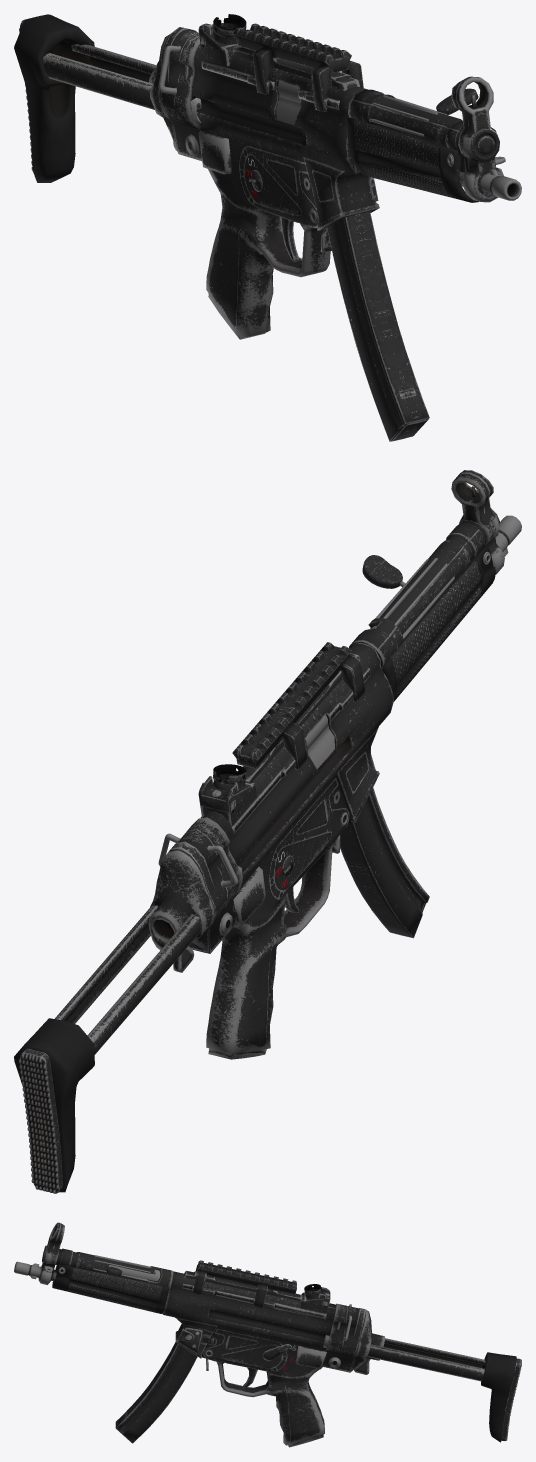
The picture shows the model from 3 angles, top to bottom: view 1: azimuth 30°, elevation 25°; view 2: azimuth 150°, elevation 25°; view 3: azimuth 270°, elevation 25°; orthographic projection. The views are drawn at different scales.
Visible parts, largest first — view 1: MP5_1_Low006, MP5_1_Low010, MP5_1_Low011; view 2: MP5_1_Low006, MP5_1_Low010, MP5_1_Low011, MP5_1_Low013; view 3: MP5_1_Low006, MP5_1_Low010, MP5_1_Low011, MP5_1_Low013.
Boxes of the visible parts, x1,y1,x2,y2 form: MP5_1_Low006: (149,14,521,339); MP5_1_Low010: (14,14,201,182); MP5_1_Low011: (327,211,429,441); MP5_1_Low006: (148,470,521,1059); MP5_1_Low010: (14,865,242,1193); MP5_1_Low011: (340,787,429,938); MP5_1_Low013: (362,555,405,628); MP5_1_Low006: (14,1222,384,1447); MP5_1_Low010: (323,1335,521,1442); MP5_1_Low011: (115,1342,197,1443); MP5_1_Low013: (106,1265,160,1281).
Size of the model in its own units: 11.07 by 46.79 by 97.55.
Materials: 1 (1 with a texture image).
